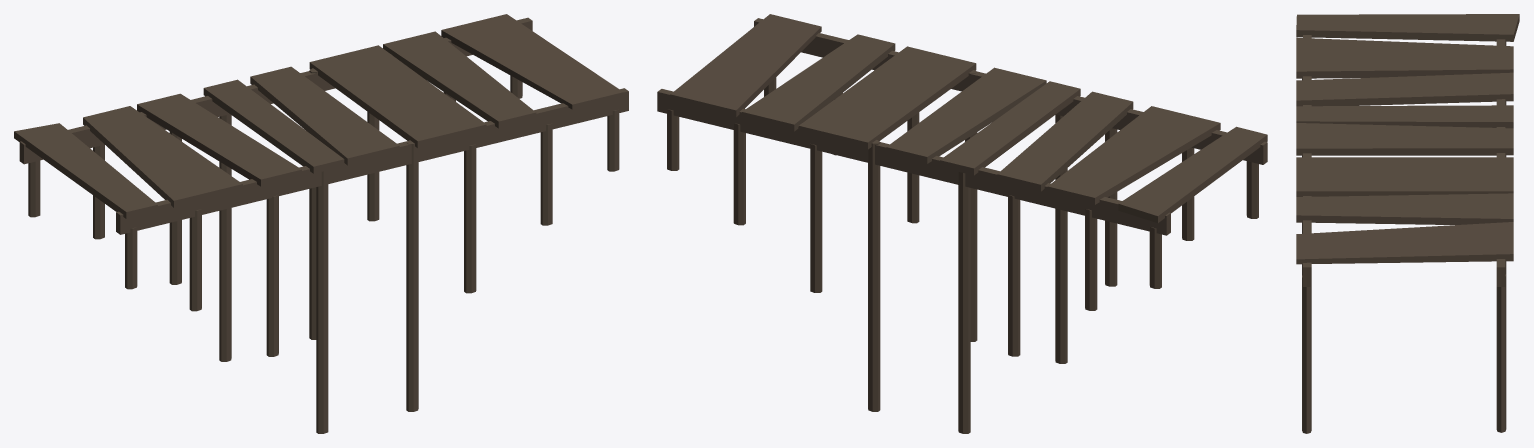
The model's file is exp-bridge.fbx.
3 views of the same model, side by side, from view 1: azimuth 30°, elevation 25°; view 2: azimuth 150°, elevation 25°; view 3: azimuth 270°, elevation 25° (orthographic).
Parts seen in each view (by area): view 1: bridge; view 2: bridge; view 3: bridge.
Boxes of the visible parts, x1=… form: bridge: x1=14, y1=14, x2=628, y2=433; bridge: x1=657, y1=14, x2=1267, y2=433; bridge: x1=1296, y1=14, x2=1519, y2=433.
Size of the model in its own units: 3.69 by 1.89 by 1.4.
